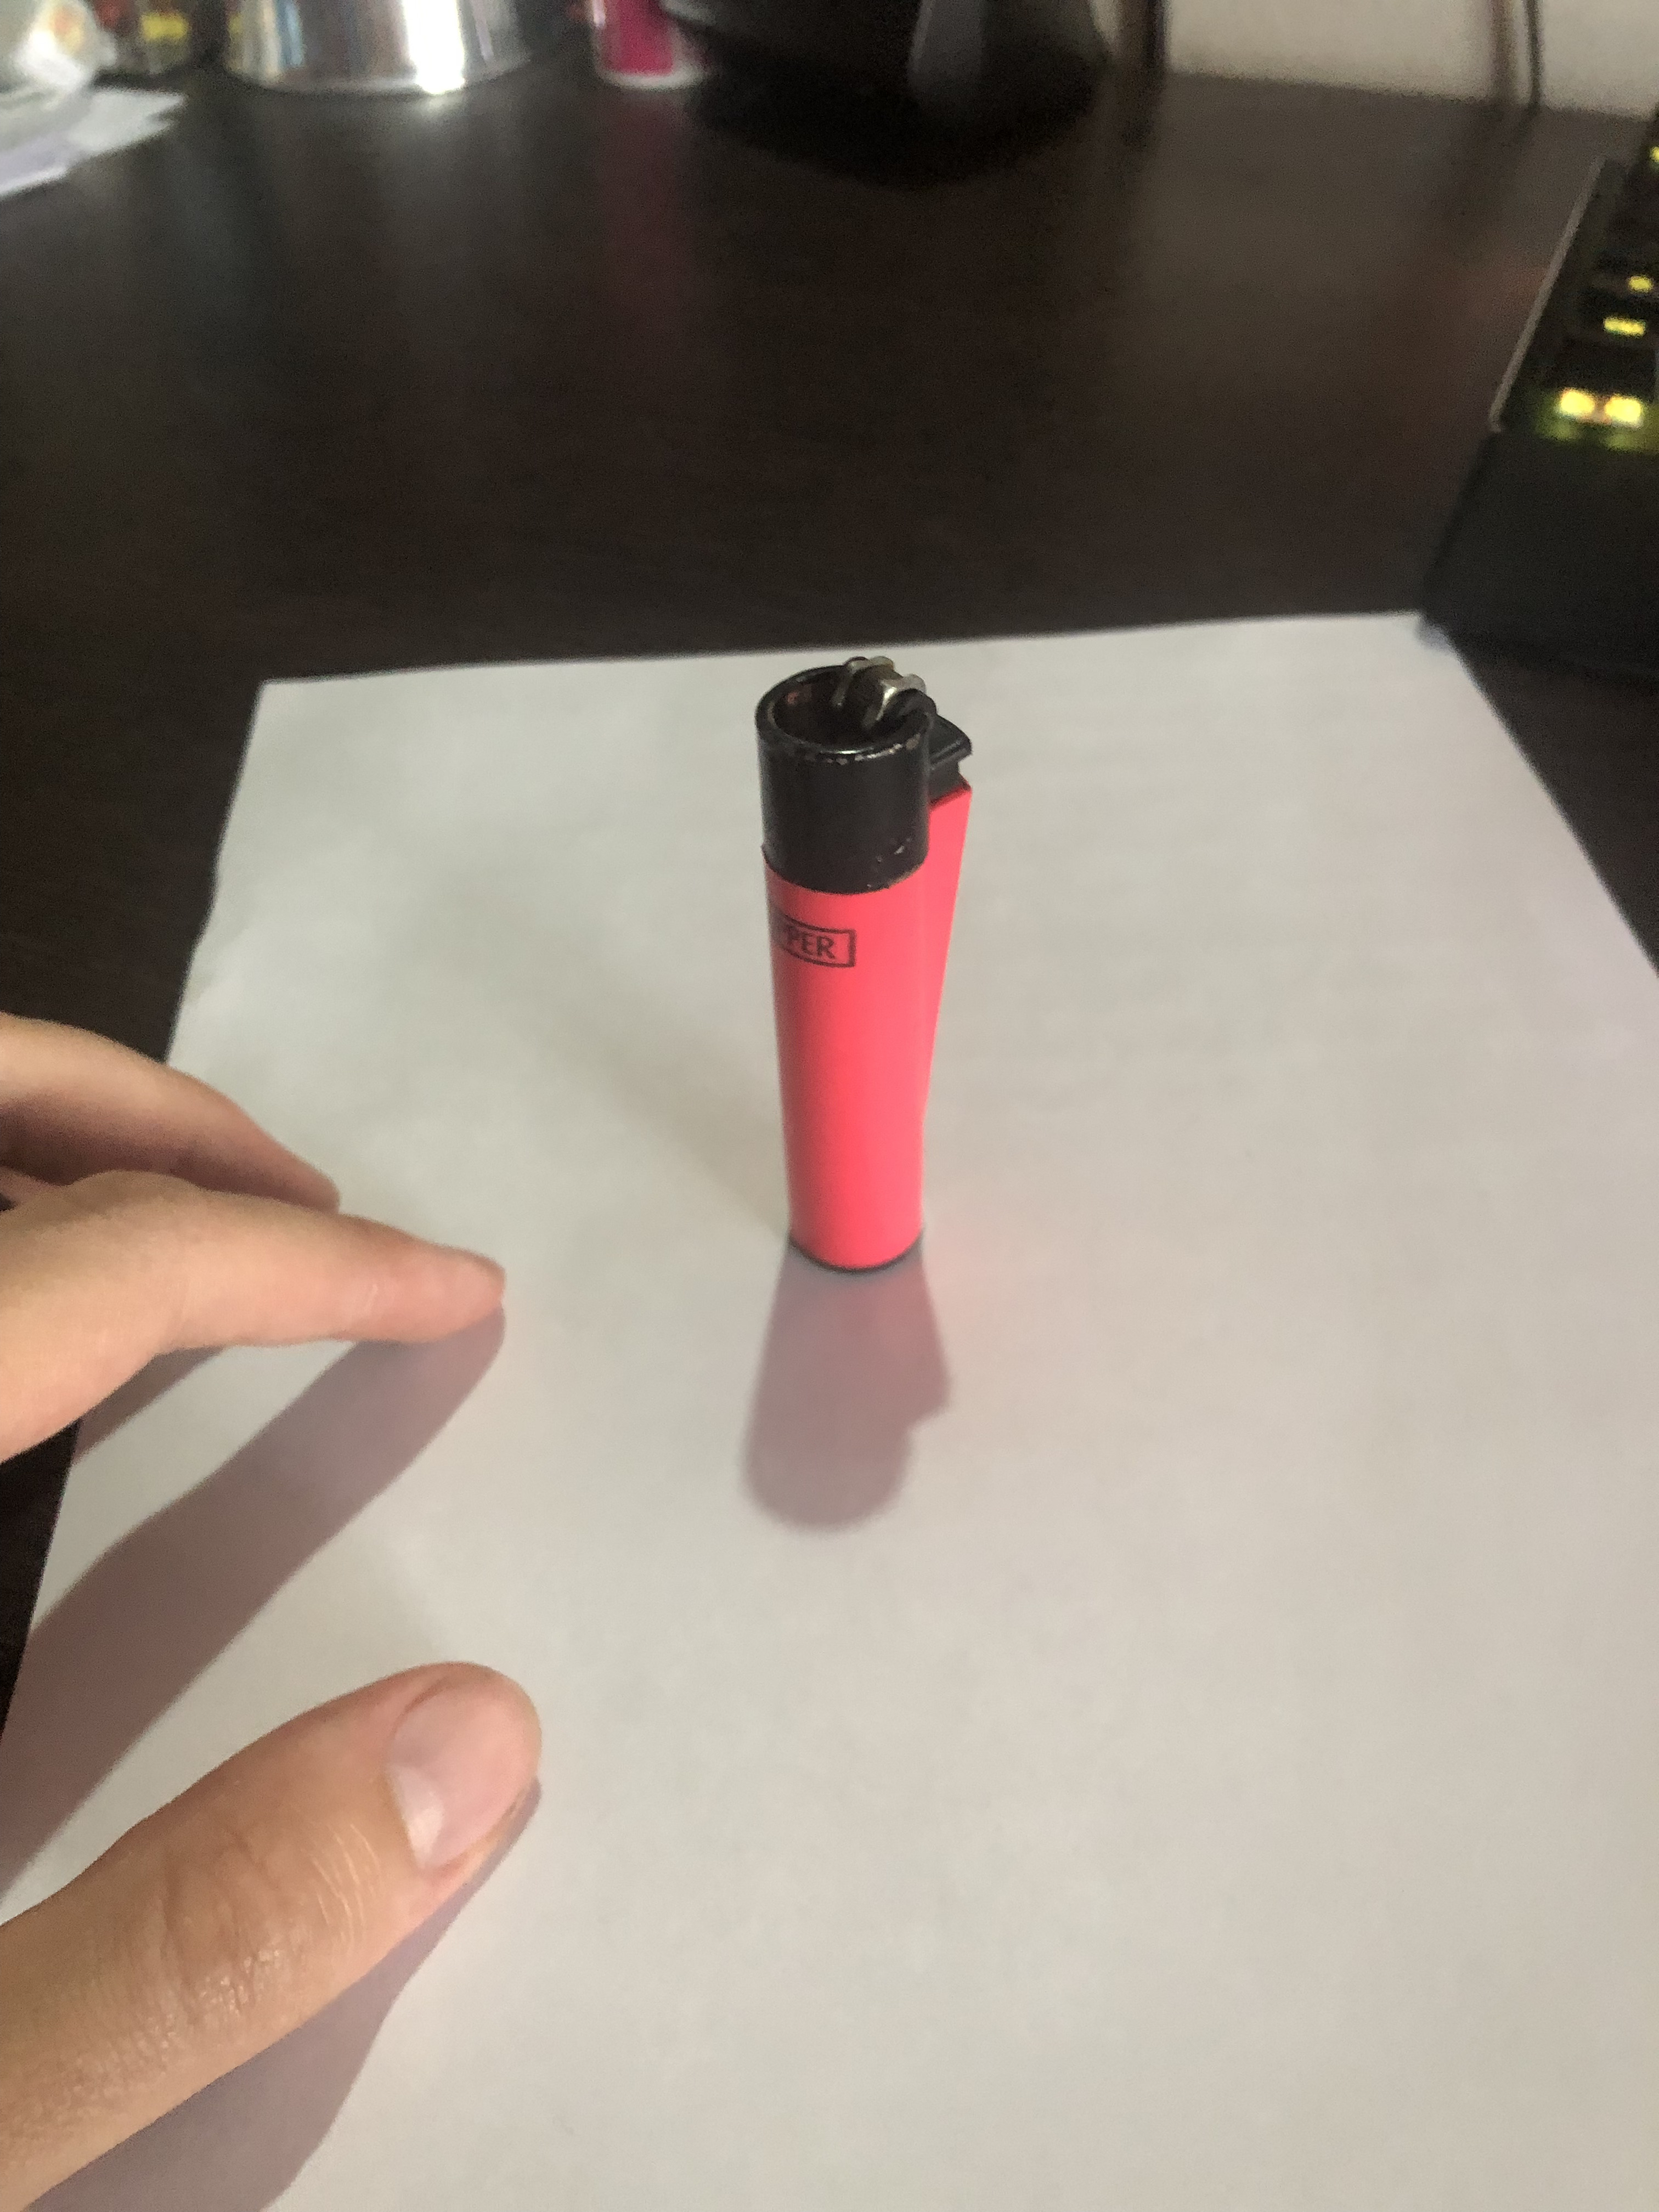Mechero: (714, 653, 976, 1284)
